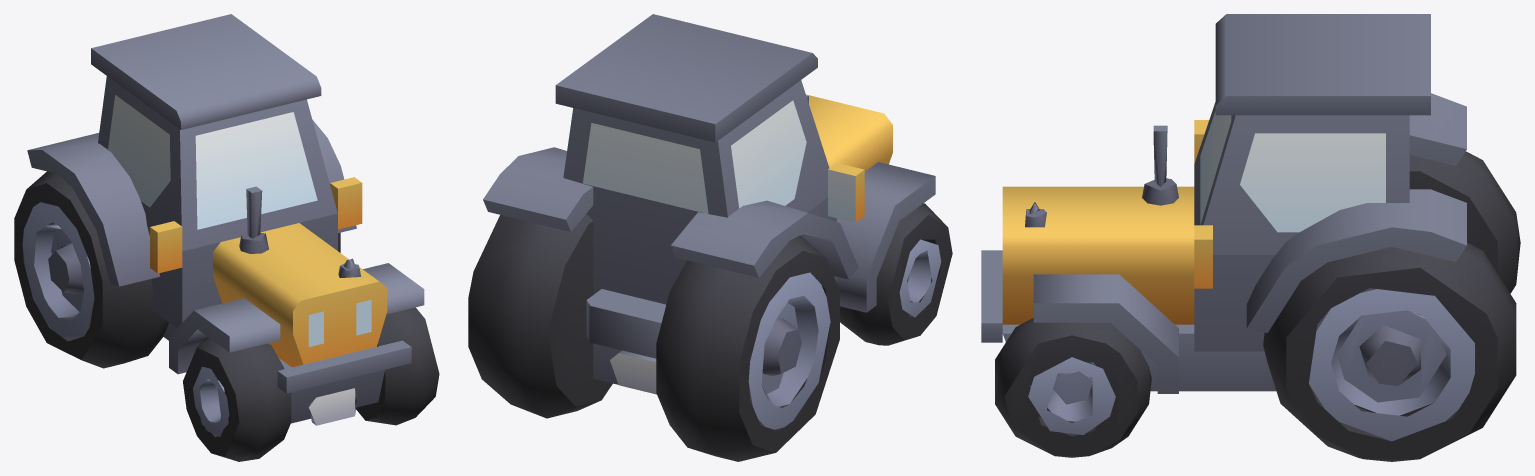
Rendered from cc0-tractor-lod1.glb.
3 renders of one model, left to right at view 1: azimuth 30°, elevation 25°; view 2: azimuth 150°, elevation 25°; view 3: azimuth 270°, elevation 25°, orthographic. The views are drawn at different scales.
Parts seen in each view (by area): view 1: part_0; view 2: part_0; view 3: part_0.
Part boxes in pixels (x1,y1,x2,y2): part_0: (14,14,439,461); part_0: (468,14,952,461); part_0: (981,14,1520,461).
Size of the model in its own units: 1.34 by 1.6 by 2.2.
Materials: 1 (1 with a texture image).
